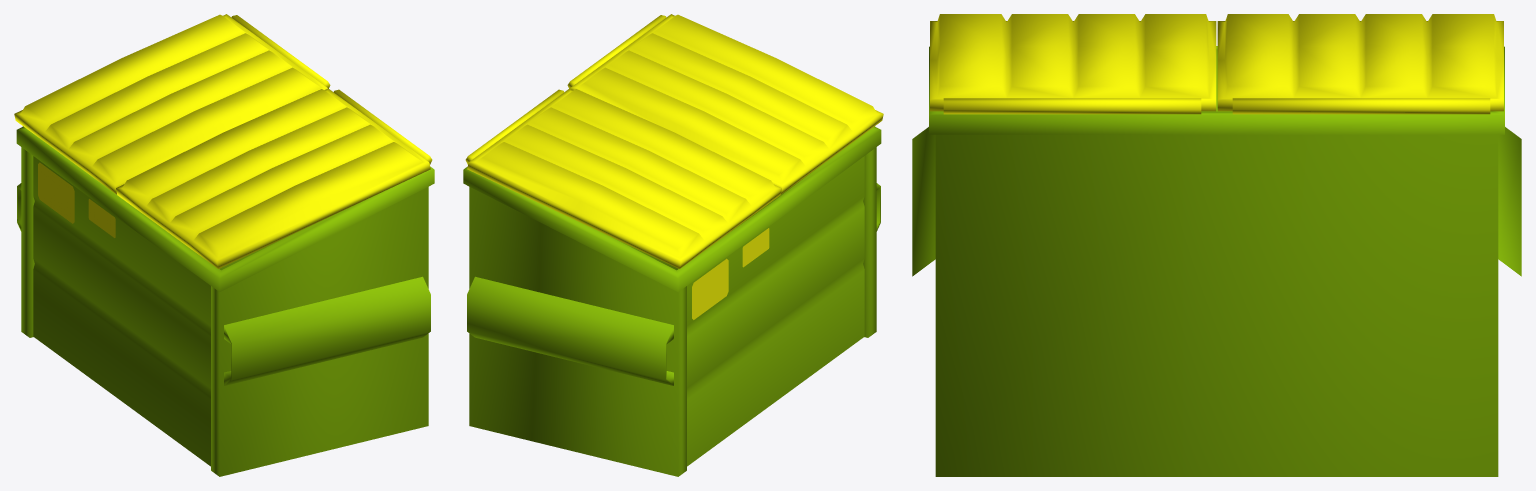
The model's file is DumpsterBlue.glb.
3 views of the same model, side by side, from view 1: azimuth 30°, elevation 25°; view 2: azimuth 150°, elevation 25°; view 3: azimuth 270°, elevation 25° (orthographic). The views are drawn at different scales.
Visible parts, largest first — view 1: DumpsterBlue; view 2: DumpsterBlue; view 3: DumpsterBlue.
Boxes of the visible parts, x1,y1,x2,y2 form: DumpsterBlue: (14, 14, 434, 476); DumpsterBlue: (463, 14, 883, 476); DumpsterBlue: (912, 14, 1521, 476).
Bounding box in the file's own units: 1.93 × 2.26 × 3.25.
Materials: 1 (1 with a texture image).
